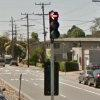Traffic light: (39, 7, 64, 43)
